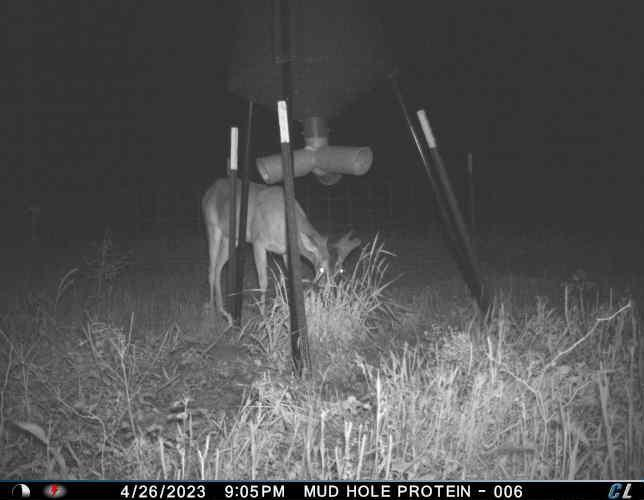Deer: (199, 167, 359, 315)
